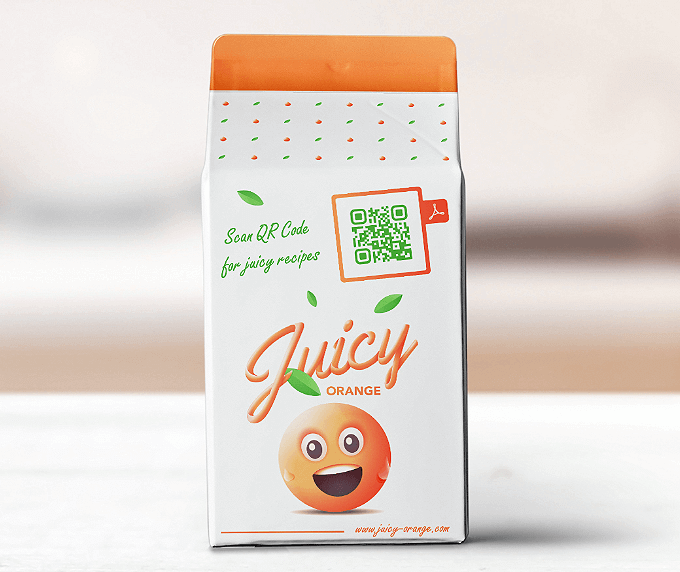qr_code: (347, 195, 415, 276)
